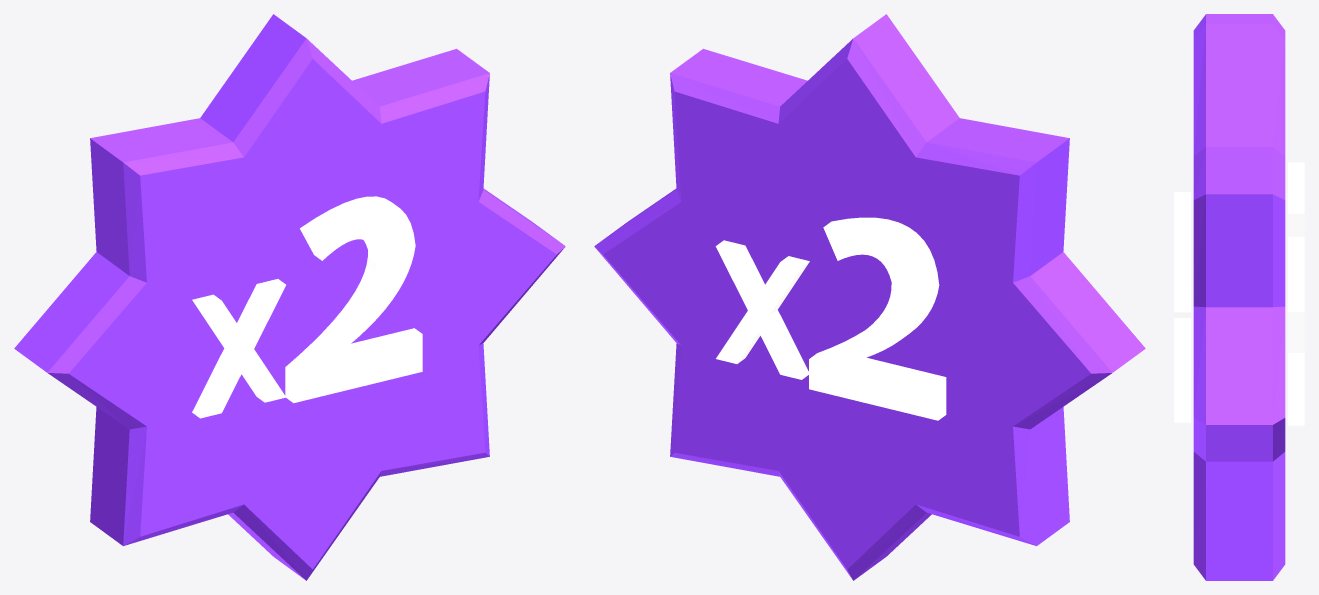
The model's file is multiplier.glb.
3 views of the same model, side by side, from view 1: azimuth 30°, elevation 25°; view 2: azimuth 150°, elevation 25°; view 3: azimuth 270°, elevation 25° (orthographic).
Parts seen in each view (by area): view 1: Multiplier_MultBody, Multiplier_MultWhite; view 2: Multiplier_MultBody, Multiplier_MultWhite; view 3: Multiplier_MultBody, Multiplier_MultWhite.
Part boxes in pixels (bbox=[...]): Multiplier_MultBody: bbox=[14, 14, 565, 580]; Multiplier_MultWhite: bbox=[192, 196, 422, 418]; Multiplier_MultBody: bbox=[594, 14, 1145, 580]; Multiplier_MultWhite: bbox=[715, 217, 946, 420]; Multiplier_MultBody: bbox=[1193, 14, 1285, 580]; Multiplier_MultWhite: bbox=[1174, 162, 1304, 425].
Size of the model in its own units: 0.7224 by 0.7224 by 0.156.
